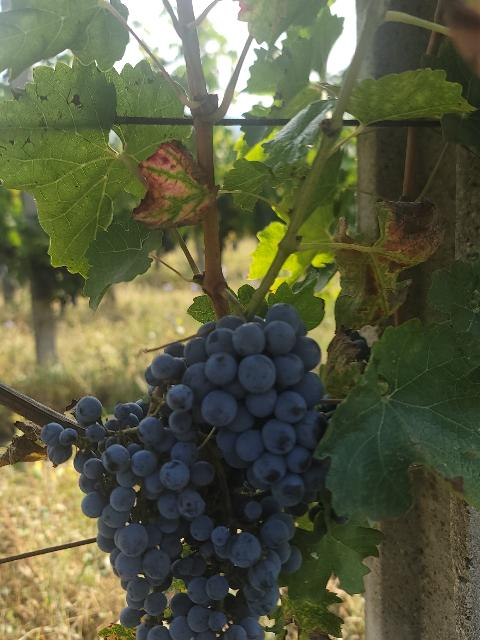grapes: (146, 302, 328, 509), (74, 396, 215, 640)
